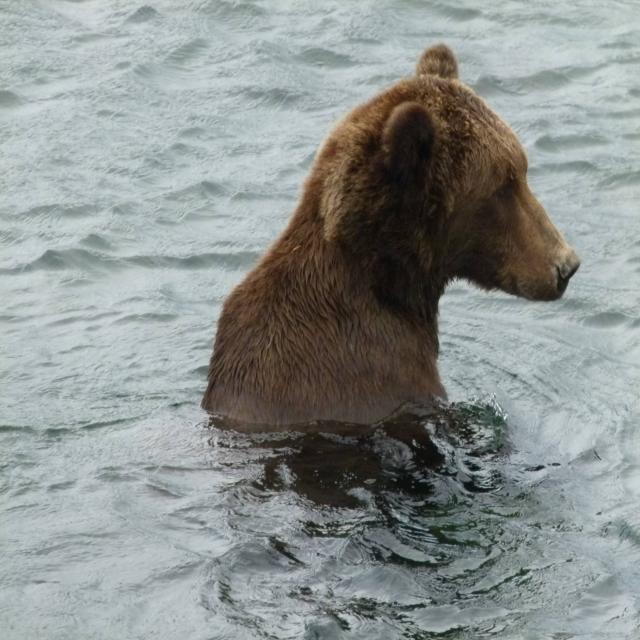bear face: (206, 40, 581, 411)
